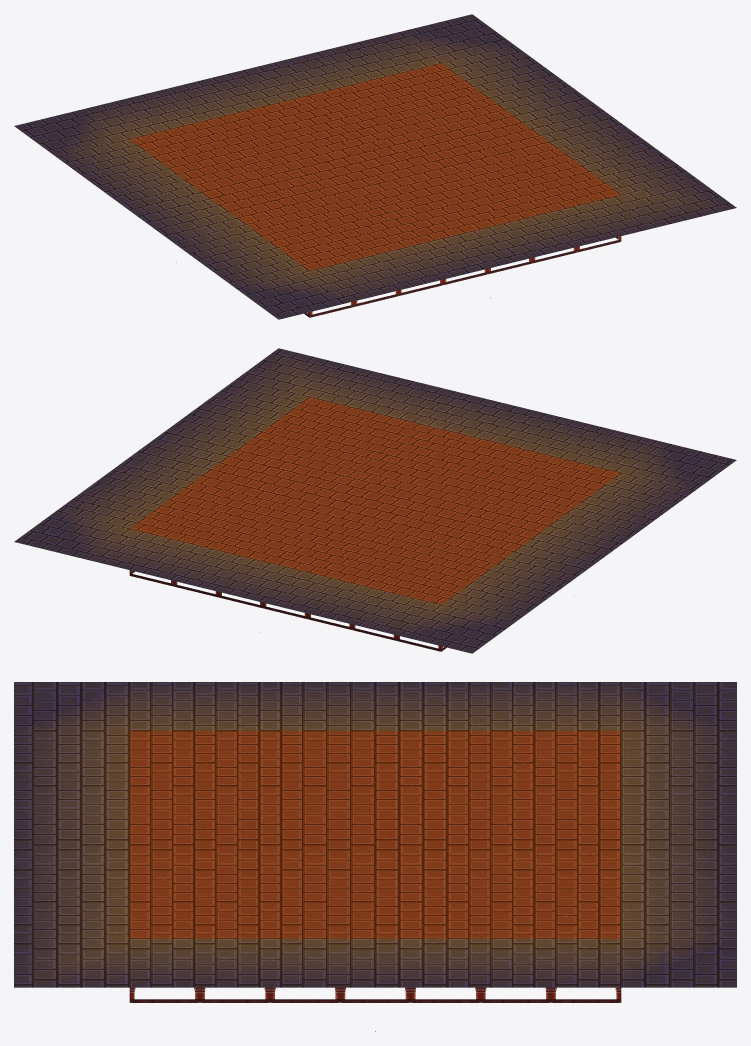
The model's file is old_koopa_agb-old_koopa_agb_V.glb.
3 views of the same model, one above another, from view 1: azimuth 30°, elevation 25°; view 2: azimuth 150°, elevation 25°; view 3: azimuth 270°, elevation 25° (orthographic). The views are drawn at different scales.
Visible parts, largest first — view 1: old_koopa_agb_V; view 2: old_koopa_agb_V; view 3: old_koopa_agb_V.
Boxes of the visible parts, x1=… form: old_koopa_agb_V: x1=14, y1=14, x2=736, y2=319; old_koopa_agb_V: x1=14, y1=348, x2=736, y2=653; old_koopa_agb_V: x1=14, y1=682, x2=736, y2=1031.
Size of the model in its own units: 625 by 61.25 by 625.
3 materials, 3 textured.
